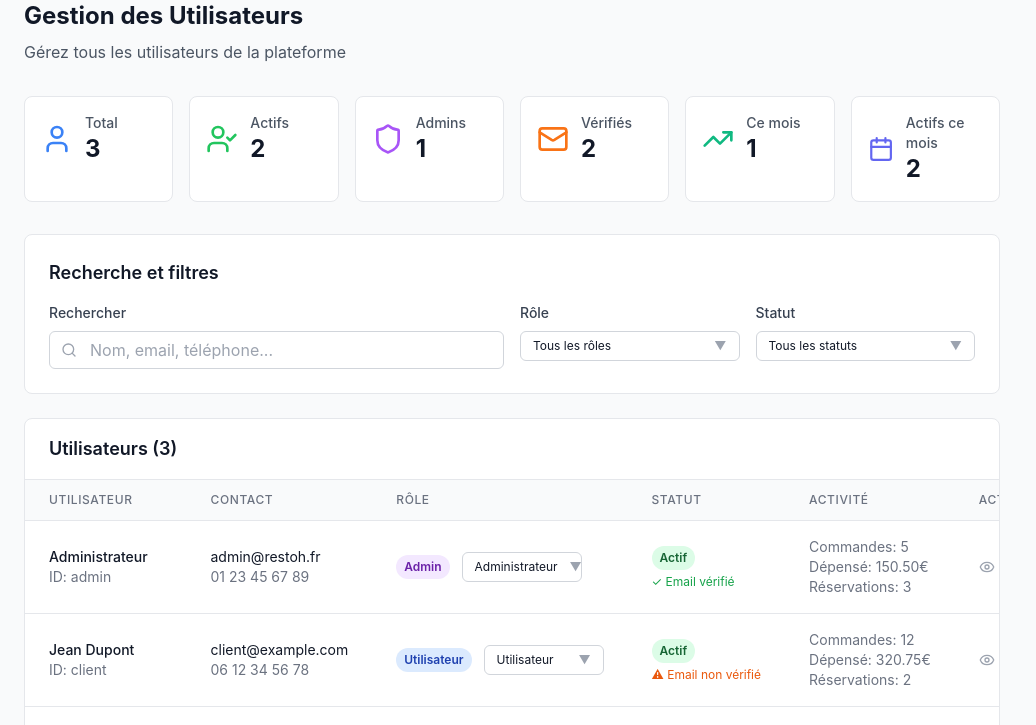
UsersManagement Component › Search Functionality › should filter users by search query (email)
This screenshot has width=1036, height=725.
(page scrolled)
Type "admin@restoh" into the field with placeholder "Nom, email, téléphone..." at (276, 350), box [49,331,504,369]
(page scrolled)
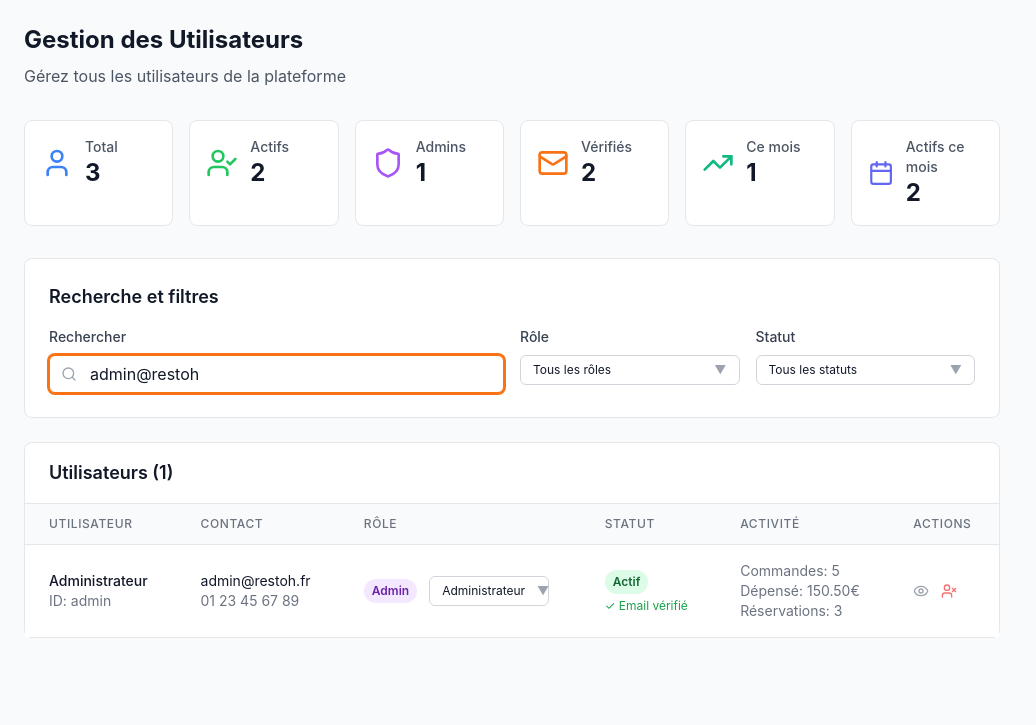
Expected: the text "admin@restoh.fr" is shown 2 times
Expected: the text "client@example.com" is gone
